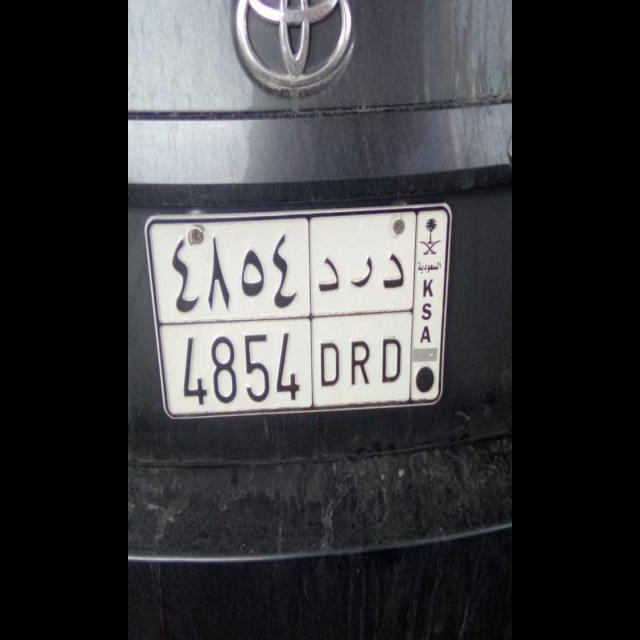license_plate: (170, 318, 408, 416)
